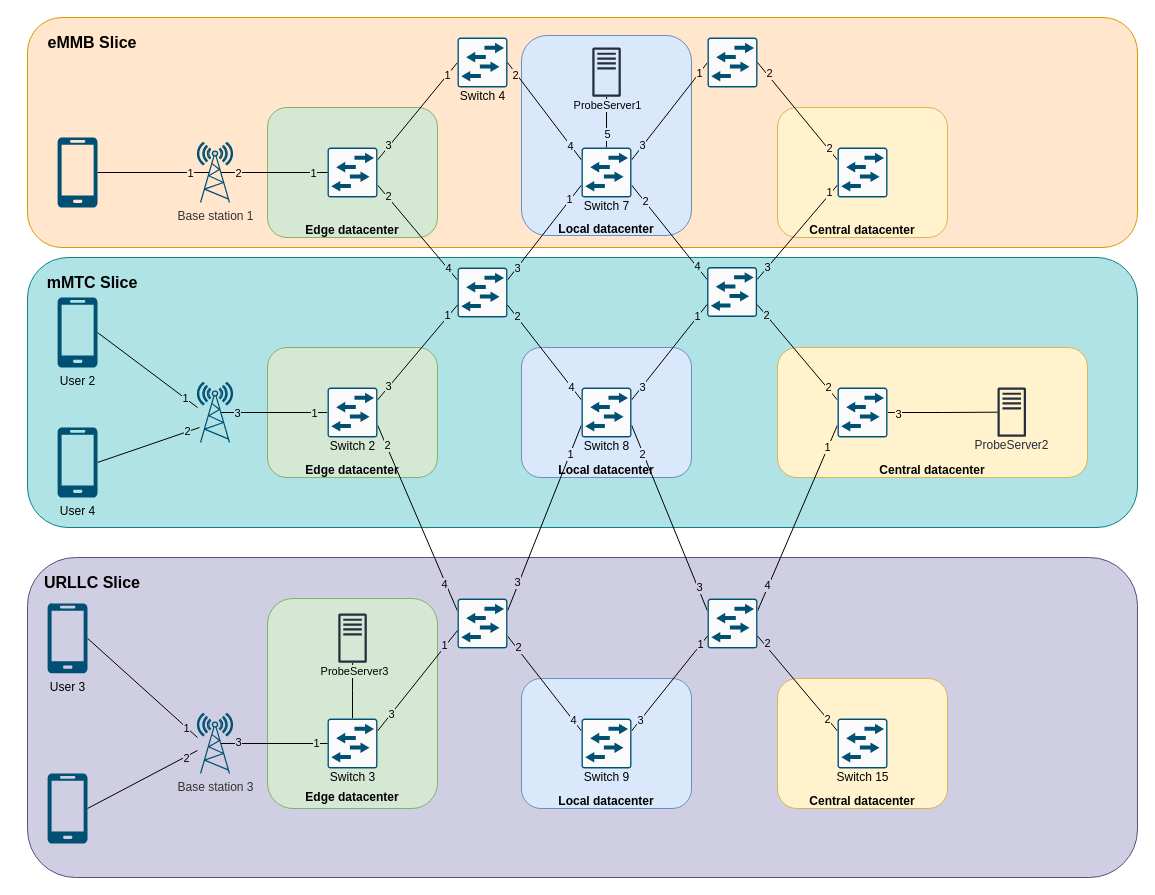
Image size: 1155x895. Some labels were removed from this diagram. The centre of each missing label's shape, as x and y in pixels:
"Base station 2" goes at point 214,412.
"Switch 1" goes at point 352,172.
"Switch 10" goes at point 732,62.
"Switch 11" goes at point 731,291.
"Switch 12" goes at point 732,623.
"Switch 13" goes at point 862,172.
"Switch 14" goes at point 862,412.
"Switch 5" goes at point 482,292.
"Switch 6" goes at point 482,623.
"User 1" goes at point 77,172.
"User 5" goes at point 67,808.
